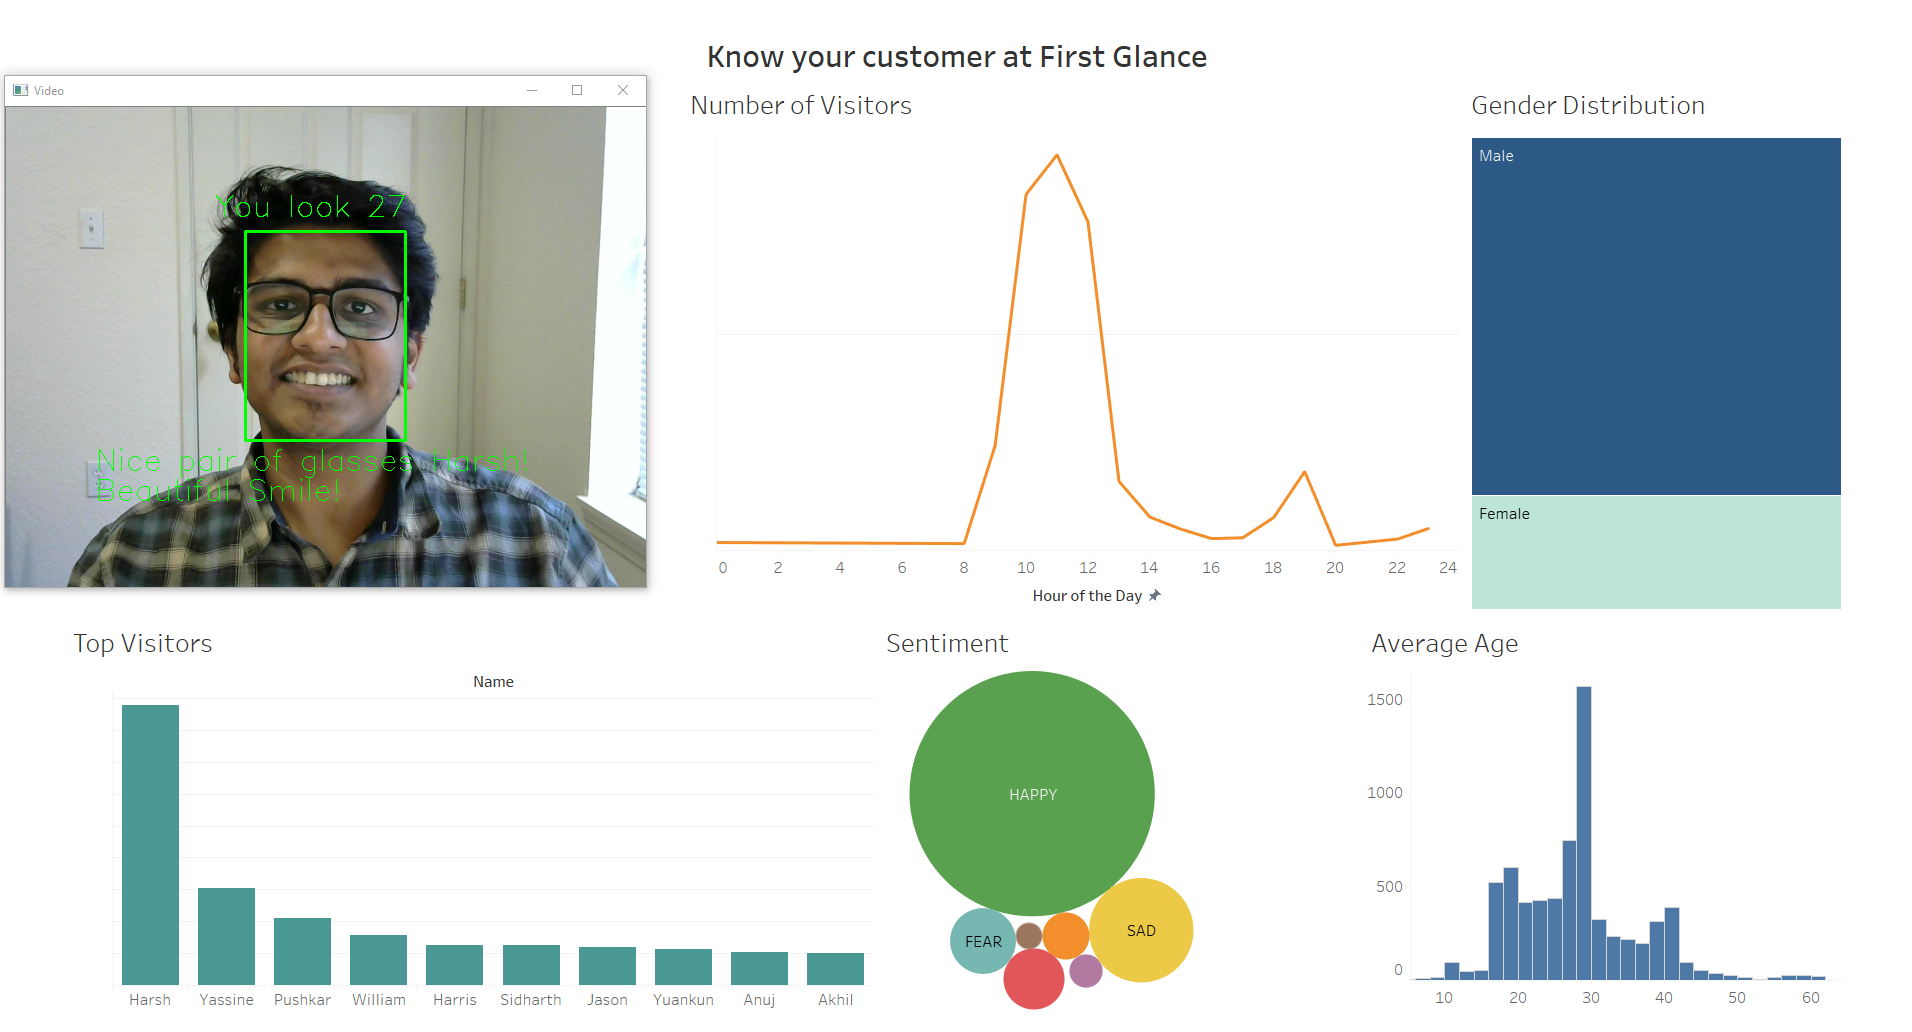

Layout of this report page (visuals, bound fields, positions):
{"tool":"tableau","page":{"name":"Dashboard 1","canvas":[1800,1000],"ordinal":0},"visuals":[{"type":"title","box":[8,8,1784,49]},{"type":"worksheet","title":"Sheet 8","mark":"Automatic","box":[8,57,617,538]},{"type":"worksheet","title":"Sheet 5","mark":"Automatic","rows":["Number of Records"],"cols":["timest"],"box":[625,57,781,538]},{"type":"worksheet","title":"Sheet 2","mark":"Automatic","box":[1406,57,386,538]},{"type":"worksheet","title":"Sheet 1","mark":"Automatic","rows":["Number of Records"],"cols":["name"],"box":[8,595,813,397]},{"type":"worksheet","title":"Sheet 7","mark":"Circle","box":[821,595,485.5,397]},{"type":"worksheet","title":"Sheet 4","mark":"Automatic","rows":["Calculation_1130403570127306752"],"cols":["Average Age (bin)"],"box":[1306.5,595,485.5,397]}]}

Visuals, with their boxes in screenshot pixels (x1, y1, x2, y2), scaled from the page's 1800x1000 canvas onto the 1912x1032 screenshot:
title: l=8, t=8, r=1904, b=59
"Sheet 8" worksheet: l=8, t=59, r=664, b=614
"Sheet 5" worksheet: l=664, t=59, r=1493, b=614
"Sheet 2" worksheet: l=1493, t=59, r=1904, b=614
"Sheet 1" worksheet: l=8, t=614, r=872, b=1024
"Sheet 7" worksheet (Circle marks): l=872, t=614, r=1388, b=1024
"Sheet 4" worksheet: l=1388, t=614, r=1904, b=1024
